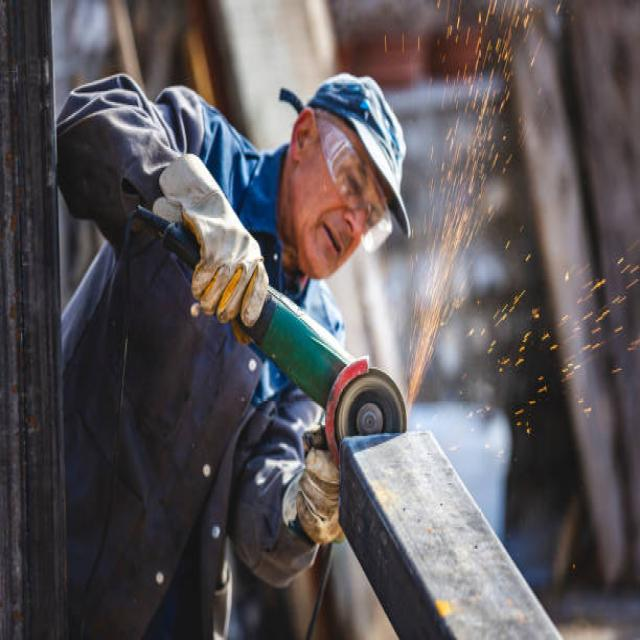gloves: (123, 133, 270, 345), (285, 420, 341, 546)
